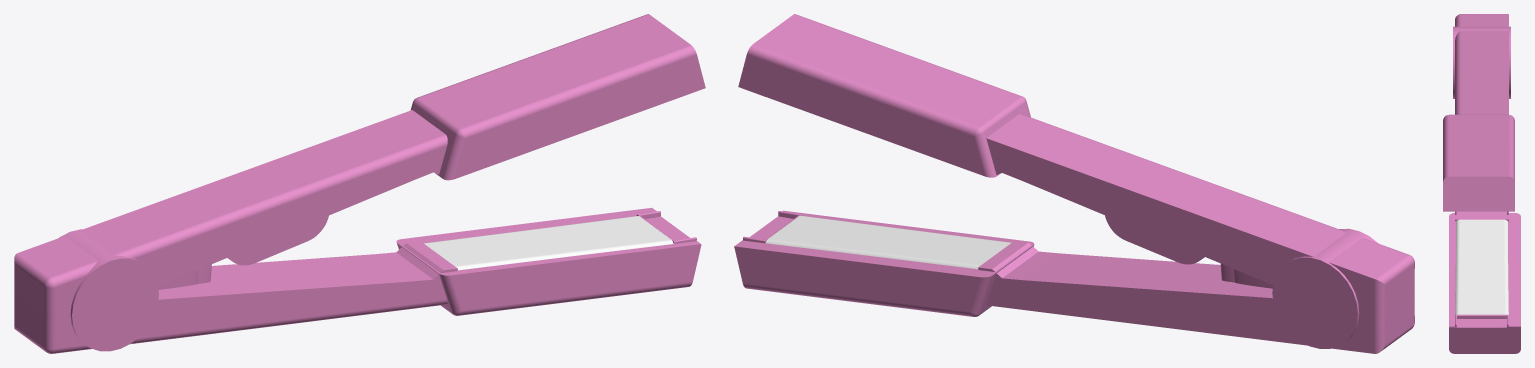
Rendered from planchita.glb.
3 views of the same model, side by side, from view 1: azimuth 30°, elevation 25°; view 2: azimuth 150°, elevation 25°; view 3: azimuth 270°, elevation 25° (orthographic). The views are drawn at different scales.
Parts seen in each view (by area): view 1: Cuerpo9, Cuerpo1, Cuerpo8, Cuerpo4, Cuerpo12; view 2: Cuerpo9, Cuerpo1, Cuerpo8, Cuerpo4, Cuerpo12; view 3: Cuerpo9, Cuerpo8, Cuerpo1, Cuerpo7.
Part boxes in pixels (x1,y1,x2,y2): Cuerpo9: (14, 14, 705, 318); Cuerpo1: (14, 207, 701, 353); Cuerpo8: (424, 216, 673, 270); Cuerpo4: (227, 215, 328, 265); Cuerpo12: (158, 264, 211, 289); Cuerpo9: (738, 14, 1414, 316); Cuerpo1: (734, 210, 1414, 353); Cuerpo8: (766, 215, 1011, 269); Cuerpo4: (1105, 215, 1204, 264); Cuerpo12: (1220, 263, 1273, 288); Cuerpo9: (1443, 14, 1514, 211); Cuerpo8: (1455, 219, 1508, 314); Cuerpo1: (1449, 78, 1520, 353); Cuerpo7: (1455, 314, 1508, 327).
Size of the model in its own units: 272 by 97.85 by 39.
